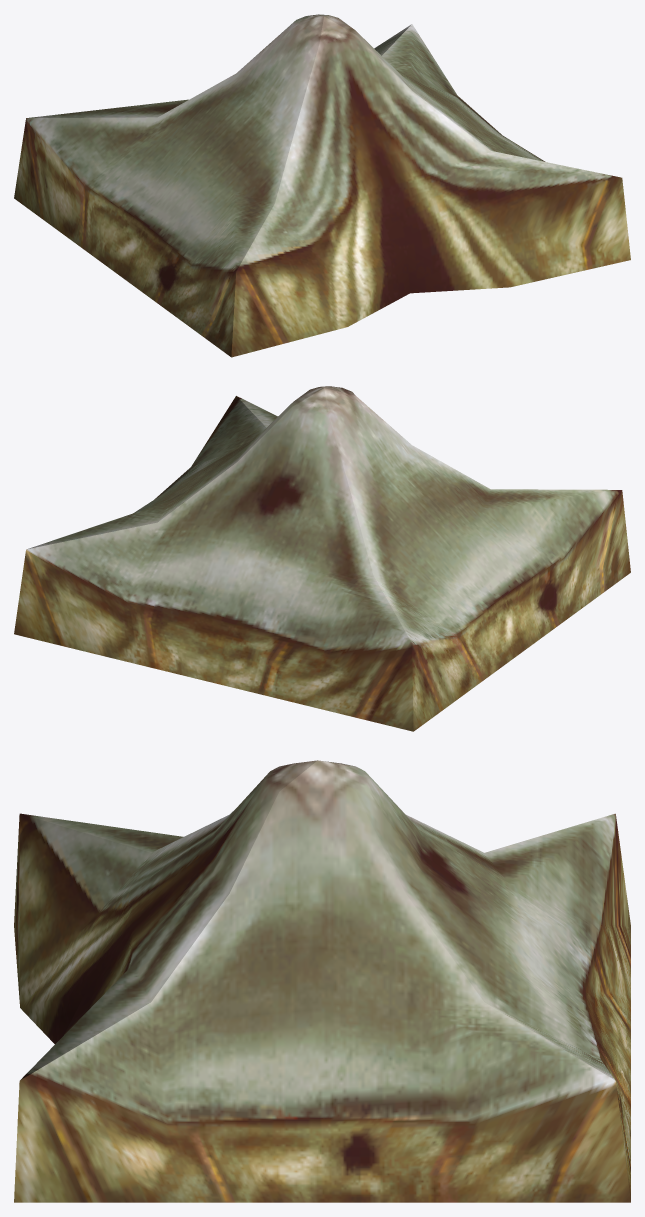
Rendered from Civilian - Civilian Building - Tent 03 - CBTTent03.glb.
The picture shows the model from 3 angles, top to bottom: view 1: azimuth 30°, elevation 25°; view 2: azimuth 150°, elevation 25°; view 3: azimuth 270°, elevation 25°; orthographic projection. The views are drawn at different scales.
Parts seen in each view (by area): view 1: CBTTENT03; view 2: CBTTENT03; view 3: CBTTENT03.
Part boxes in pixels (bbox=[...]): CBTTENT03: bbox=[14, 14, 630, 357]; CBTTENT03: bbox=[14, 386, 630, 731]; CBTTENT03: bbox=[14, 760, 630, 1202].
Size of the model in its own units: 27.15 by 13.9 by 25.59.
Materials: 1 (1 with a texture image).
